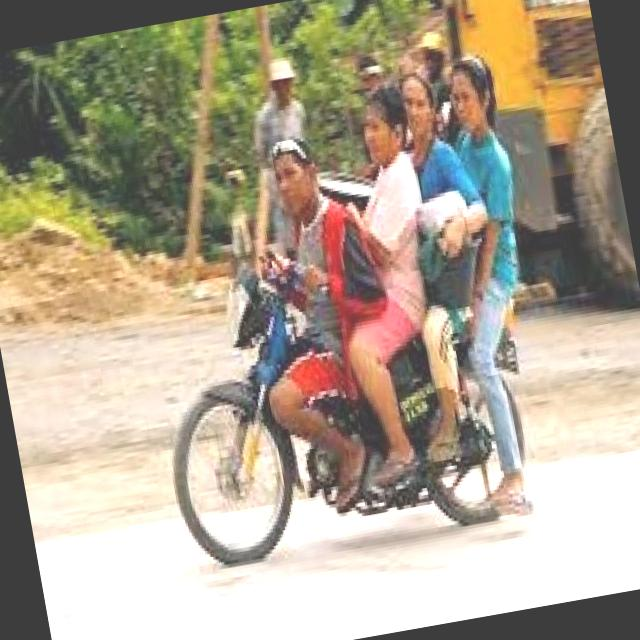motorcycle: (134, 214, 550, 584)
person: (338, 74, 464, 390), (364, 61, 496, 362), (245, 127, 382, 410), (424, 48, 550, 354)
rider_region: (107, 49, 578, 584)
